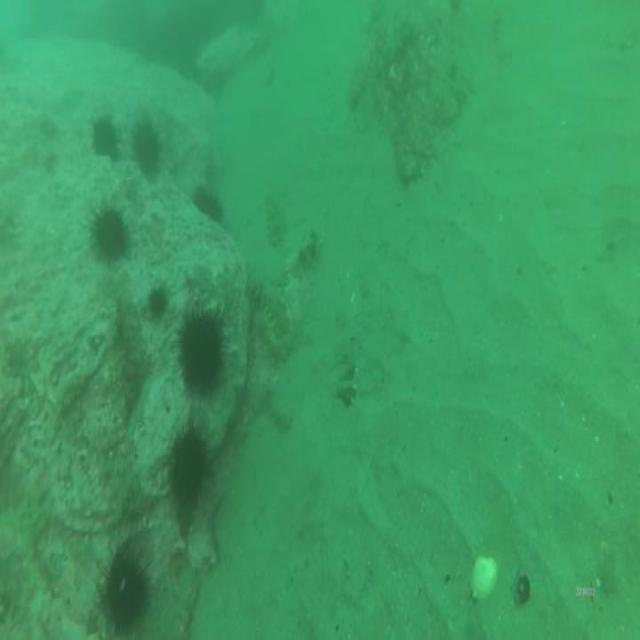echinus: (174, 308, 228, 402), (94, 550, 152, 632), (169, 427, 209, 507), (89, 202, 130, 267), (129, 118, 163, 184), (189, 182, 225, 228), (89, 112, 119, 163), (146, 281, 172, 324)
holothurian: (185, 430, 243, 540), (379, 0, 441, 68), (396, 86, 431, 192), (342, 26, 378, 124), (148, 578, 202, 640), (247, 270, 296, 335), (250, 304, 298, 366), (256, 381, 294, 438), (262, 191, 288, 253)
scallop: (466, 550, 499, 607)
